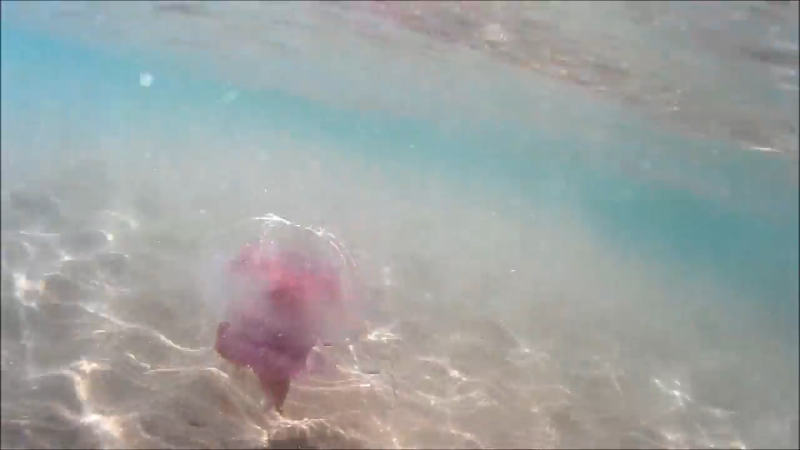red jellyfish: (208, 214, 358, 406)
